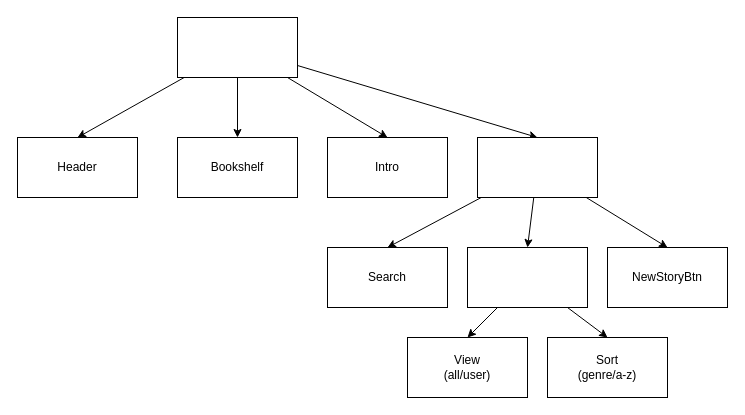
Image size: 745x415. Some labels were removed from this diagram. Each missing label, with the centre of its shape:
ControlPanel: pixel 537 167
HomePage: pixel 237 47
Sort: pixel 527 277
